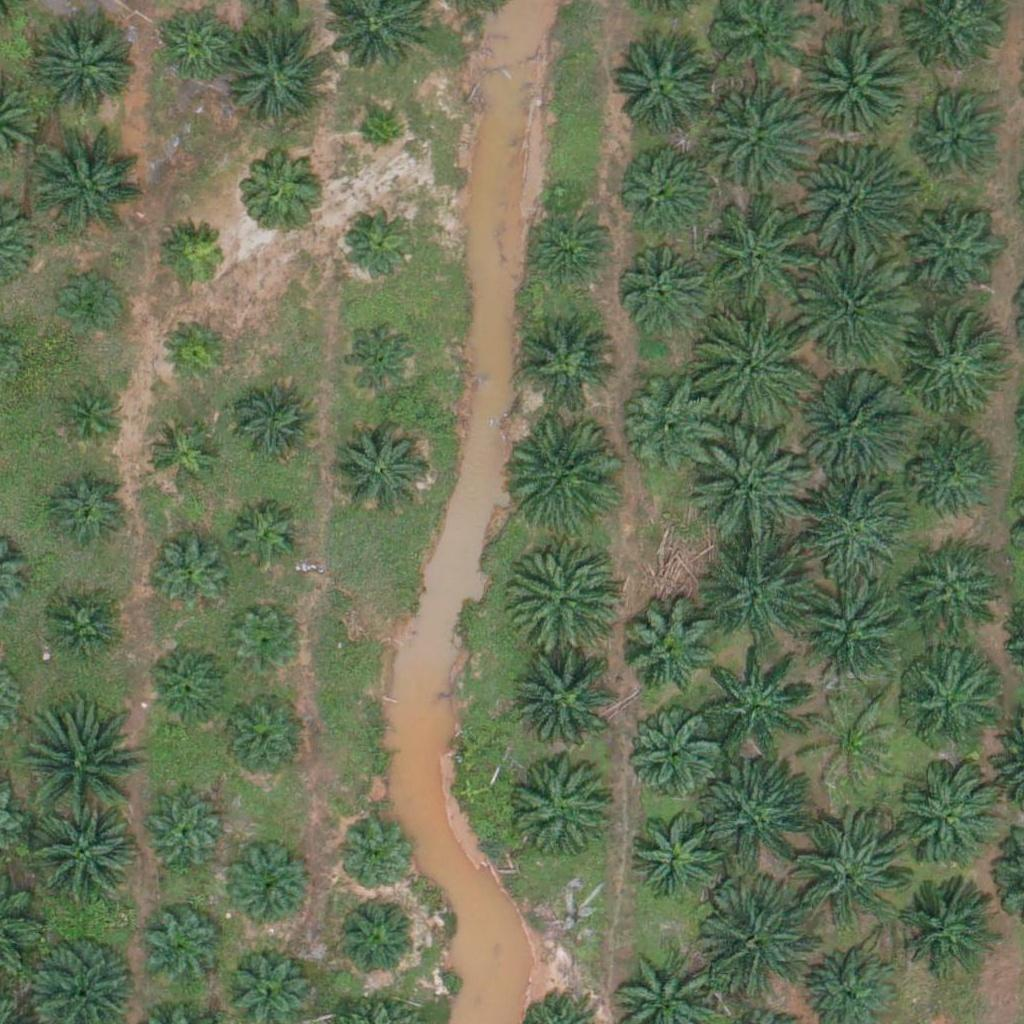Kelapa_Sawit: (701, 884, 814, 998), (508, 415, 621, 529), (702, 758, 815, 871), (692, 432, 805, 545), (504, 539, 617, 652), (26, 711, 139, 824), (801, 253, 914, 366), (801, 142, 914, 255), (800, 24, 913, 137), (698, 84, 811, 197), (700, 313, 813, 426), (896, 759, 1008, 873), (797, 470, 909, 584), (798, 583, 910, 697), (511, 648, 623, 762), (805, 367, 917, 481), (794, 814, 906, 927), (699, 645, 811, 758), (703, 530, 815, 643), (24, 804, 136, 917), (34, 127, 146, 240), (899, 318, 1011, 431), (705, 198, 817, 311), (226, 18, 338, 131), (804, 687, 904, 788), (621, 705, 721, 806), (625, 801, 725, 902), (514, 757, 614, 858), (329, 421, 429, 522), (36, 12, 136, 113), (900, 206, 1000, 307), (614, 132, 714, 233), (614, 40, 714, 141), (516, 312, 616, 413), (897, 878, 997, 978), (901, 549, 1001, 649), (894, 650, 994, 750), (618, 598, 718, 698), (621, 375, 721, 475), (617, 234, 717, 334), (146, 527, 234, 616), (338, 315, 426, 404), (903, 432, 991, 520), (44, 471, 132, 559), (32, 587, 120, 675), (216, 694, 304, 782), (139, 904, 227, 992), (153, 4, 241, 92), (238, 141, 326, 229), (232, 380, 320, 468), (145, 642, 232, 730), (138, 790, 225, 878), (227, 847, 314, 935), (334, 893, 421, 981), (336, 197, 423, 285), (908, 90, 995, 178), (523, 200, 610, 288), (53, 268, 128, 344), (228, 607, 303, 683), (337, 820, 412, 896), (51, 380, 126, 456), (158, 218, 233, 293), (143, 418, 218, 493), (231, 502, 306, 577), (158, 314, 233, 389), (355, 112, 405, 162)
